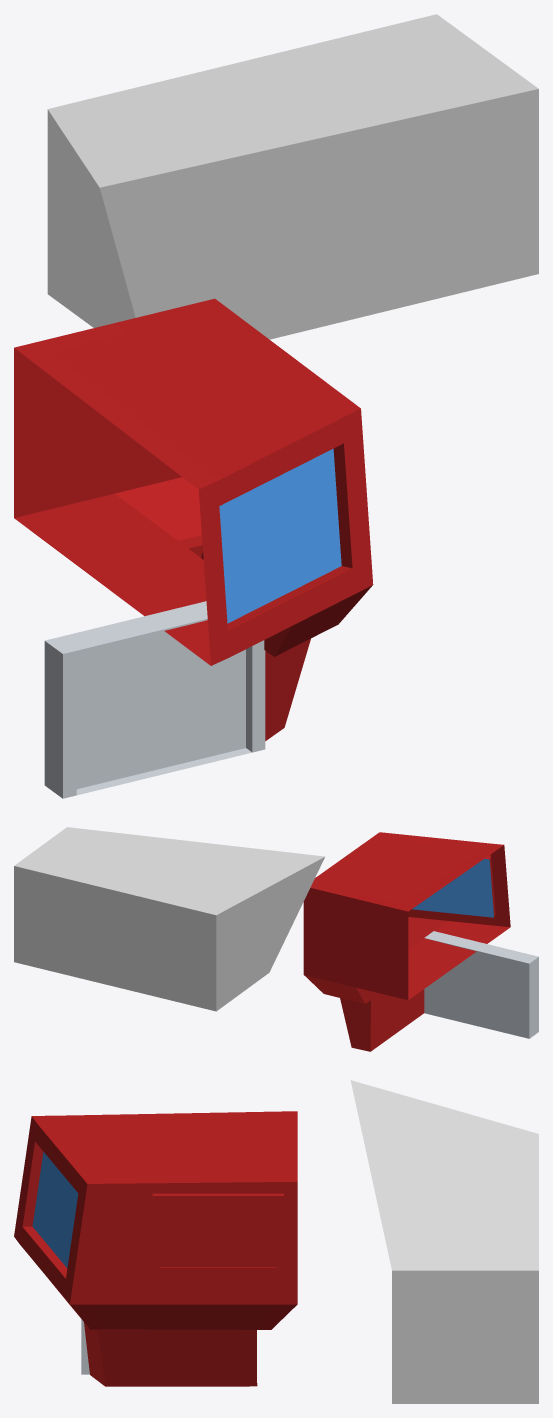
Rendered from optimus.glb.
3 renders of one model, top to bottom at view 1: azimuth 30°, elevation 25°; view 2: azimuth 150°, elevation 25°; view 3: azimuth 270°, elevation 25°, orthographic. The views are drawn at different scales.
Parts seen in each view (by area): view 1: Cube.001, Chest, Cube; view 2: Cube.001, Chest, Cube; view 3: Chest, Cube.001, Arm bits.
Boxes of the visible parts, <box> form: Cube.001: <box>47,14,538,339</box>; Chest: <box>14,298,373,740</box>; Cube: <box>44,601,265,798</box>; Cube.001: <box>14,827,324,1011</box>; Chest: <box>303,832,510,1051</box>; Cube: <box>424,931,538,1038</box>; Chest: <box>14,1111,297,1386</box>; Cube.001: <box>350,1080,538,1403</box>; Arm bits: <box>152,1193,283,1274</box>.
Size of the model in its own units: 2.65 by 1.54 by 2.42.
